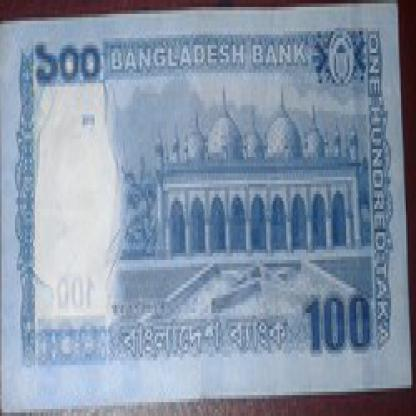one hundred taka: (31, 31, 106, 97), (303, 291, 376, 354)
